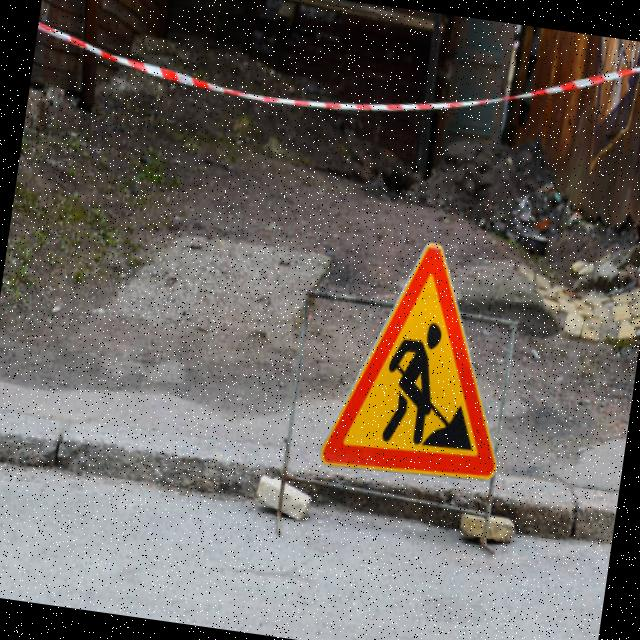road_work: (321, 229, 528, 496)
